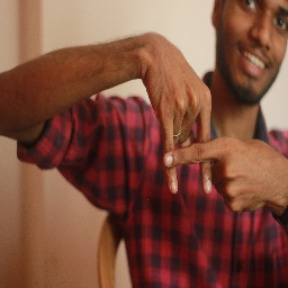H: (132, 81, 253, 204)
